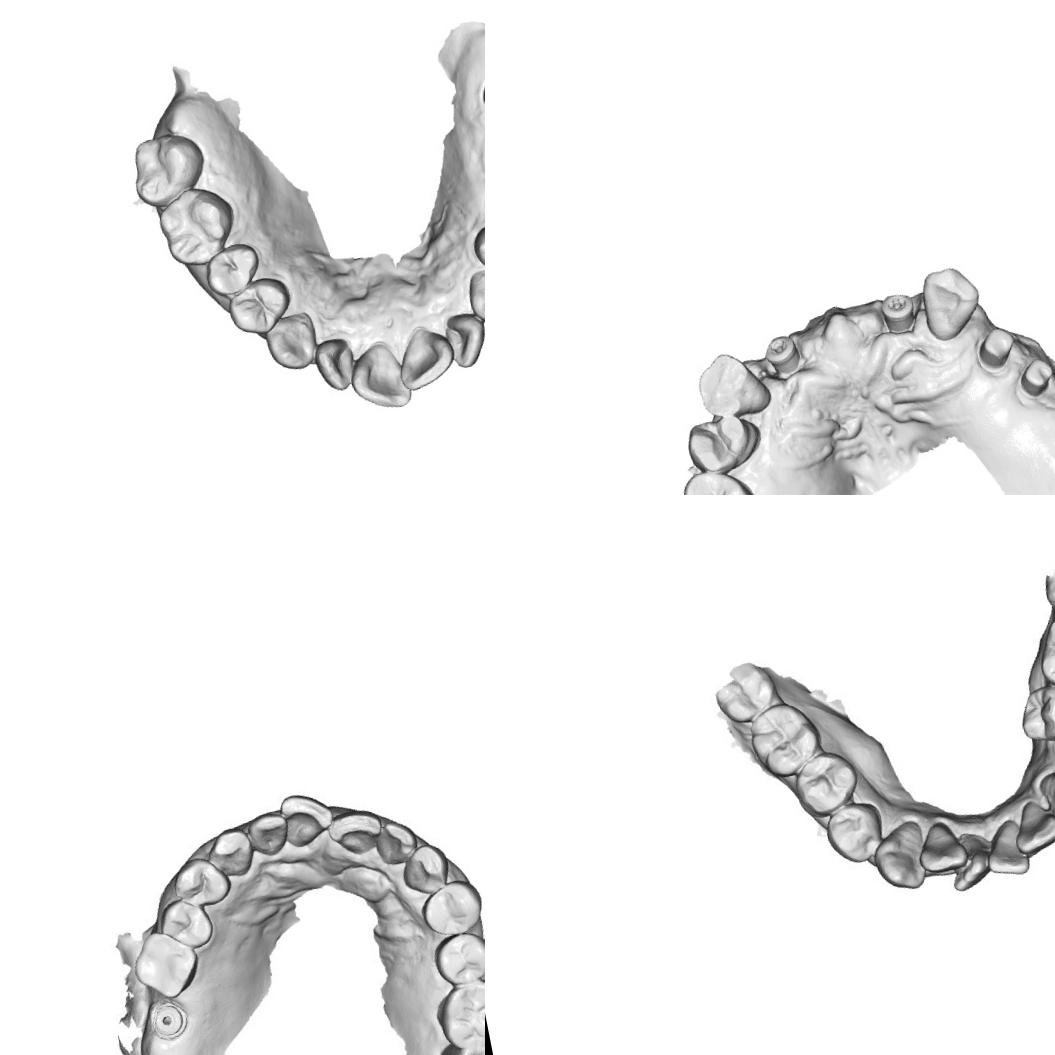abutment: (970, 320, 1020, 378), (1013, 353, 1055, 403)
canine: (689, 342, 776, 424), (912, 260, 988, 346), (260, 308, 322, 374), (872, 823, 928, 894), (204, 825, 256, 881), (397, 842, 449, 897), (461, 261, 485, 327), (1037, 768, 1055, 824)
implant: (760, 330, 804, 379), (143, 999, 191, 1039)
implant_plus: (876, 288, 920, 334)
incisor: (343, 337, 414, 417), (390, 319, 460, 393), (914, 815, 972, 882), (325, 800, 385, 858), (982, 819, 1035, 877), (310, 334, 360, 395), (439, 307, 485, 371), (280, 790, 332, 846), (948, 833, 994, 894), (1010, 795, 1055, 855), (371, 818, 417, 868), (247, 809, 292, 856)
molar: (152, 178, 243, 272), (125, 126, 211, 211), (744, 698, 822, 780), (128, 927, 198, 1001), (795, 748, 860, 812), (712, 659, 774, 722), (434, 978, 485, 1049), (673, 461, 764, 495), (1034, 544, 1055, 617)
premolar: (679, 406, 766, 480), (222, 272, 296, 341), (820, 800, 888, 866), (164, 852, 227, 914), (199, 239, 264, 299), (420, 879, 482, 938), (160, 897, 216, 954), (434, 931, 485, 990), (1012, 678, 1055, 745), (467, 216, 485, 286)
